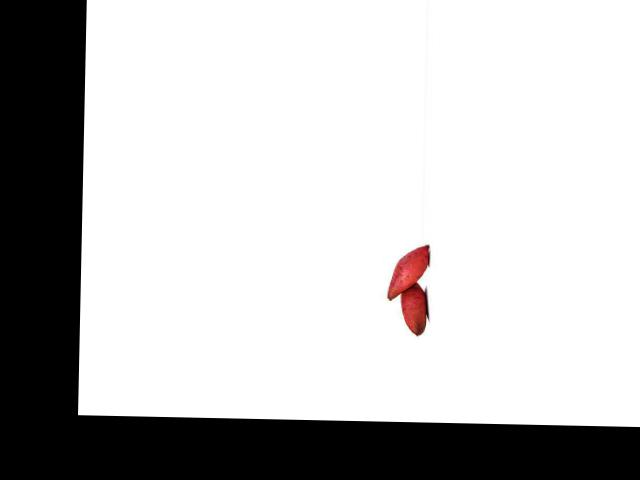sweet_potato: (396, 277, 428, 337)
